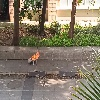fire: (30, 52, 40, 60)
